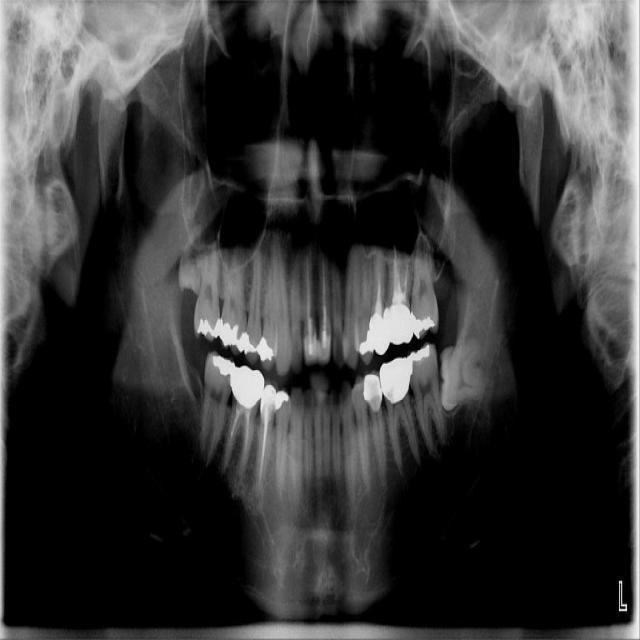Crown: (232, 367, 264, 407), (383, 304, 412, 344), (369, 313, 390, 354), (260, 378, 278, 423)
Filling: (380, 356, 412, 403), (362, 369, 383, 412), (412, 308, 435, 337), (196, 313, 221, 339), (211, 355, 238, 377), (220, 317, 239, 345), (239, 330, 258, 357), (411, 345, 433, 367), (277, 389, 294, 413), (361, 327, 374, 357), (259, 338, 274, 362)
Root Canal Treatment: (258, 424, 269, 480), (241, 409, 250, 465), (229, 408, 240, 449), (306, 258, 311, 333), (322, 265, 327, 329), (403, 258, 408, 295), (395, 253, 399, 295), (378, 255, 381, 299)
impacted tooth: (439, 336, 495, 414), (178, 226, 201, 292)
